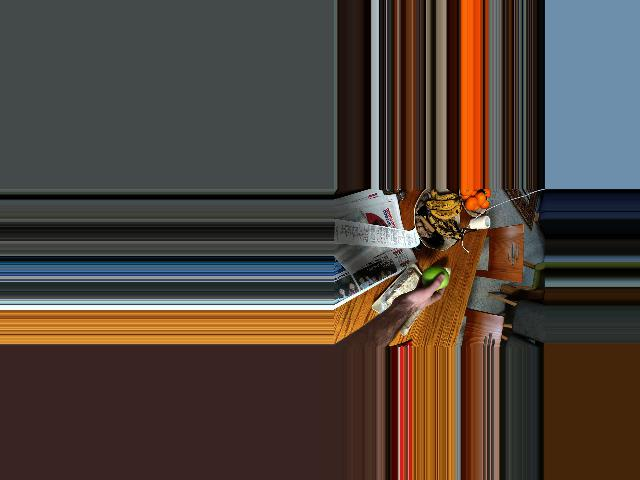apple: (420, 265, 449, 291)
